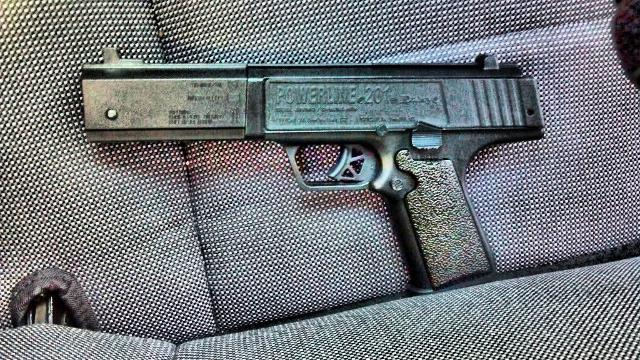pistol: (81, 39, 541, 297)
